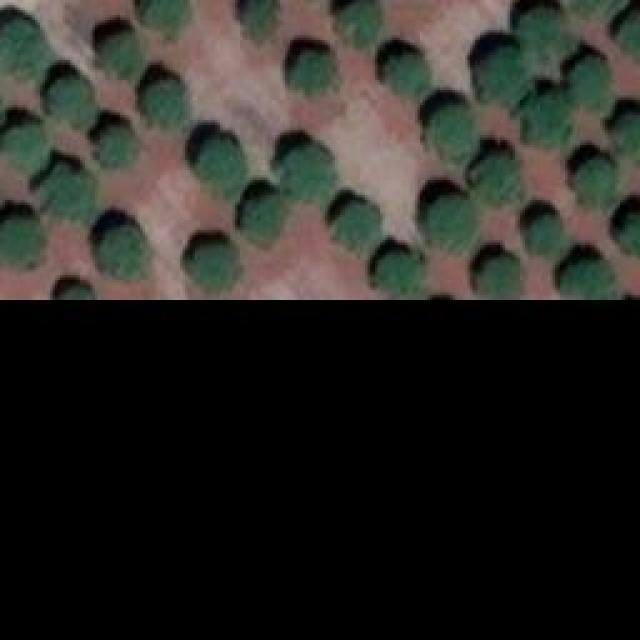Tree: (278, 143, 341, 203), (420, 195, 478, 250), (520, 90, 573, 150), (38, 78, 98, 131), (518, 3, 571, 58), (475, 45, 525, 103), (43, 165, 93, 223), (0, 212, 48, 270), (380, 50, 433, 100), (143, 78, 196, 128), (565, 55, 613, 110), (0, 118, 48, 173), (427, 105, 475, 158), (0, 17, 42, 77), (240, 195, 290, 245), (560, 253, 615, 298), (195, 138, 243, 188), (332, 0, 380, 48), (287, 50, 335, 98), (380, 250, 428, 298), (100, 223, 143, 276), (475, 153, 520, 203), (188, 245, 238, 290), (335, 202, 380, 250), (573, 157, 616, 205), (473, 255, 518, 298), (95, 125, 138, 168), (523, 213, 563, 256), (100, 30, 138, 75), (240, 0, 280, 40), (140, 0, 190, 32), (612, 13, 640, 66), (612, 110, 640, 153), (615, 207, 640, 255), (560, 0, 615, 18), (55, 278, 95, 298)
